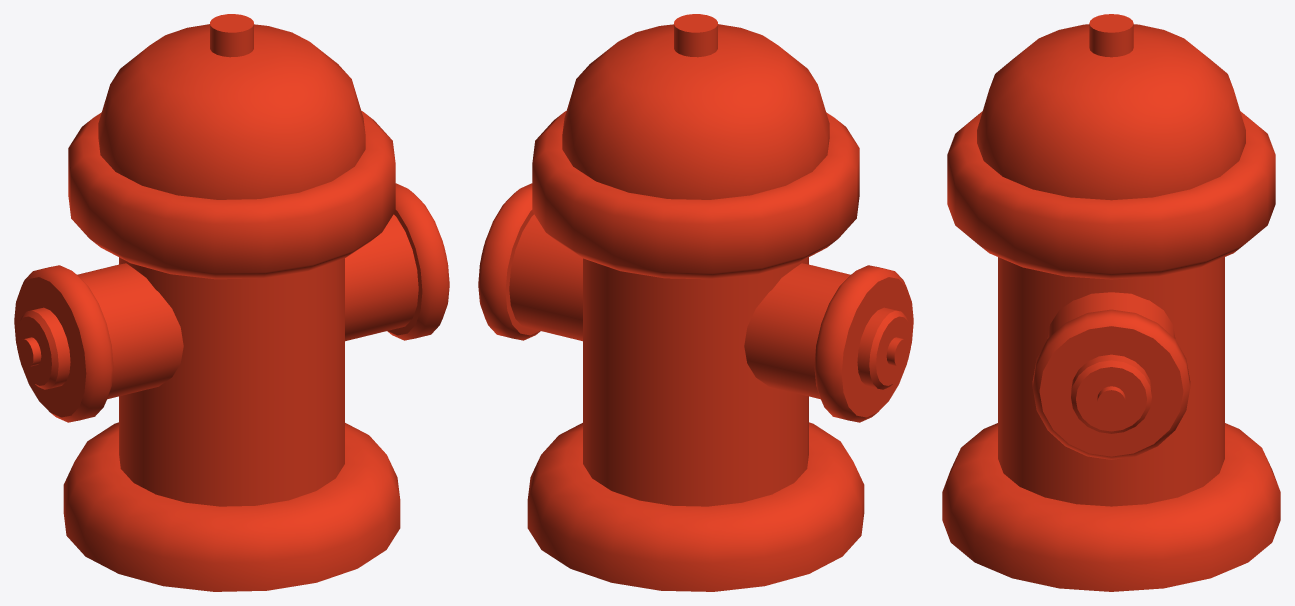
The model's file is hydrant_001.glb.
3 views of the same model, side by side, from view 1: azimuth 30°, elevation 25°; view 2: azimuth 150°, elevation 25°; view 3: azimuth 270°, elevation 25° (orthographic).
Parts seen in each view (by area): view 1: hydrant.001; view 2: hydrant.001; view 3: hydrant.001.
Part boxes in pixels (box(x1,y1,x2,y2)): hydrant.001: box(14, 14, 449, 591); hydrant.001: box(478, 14, 913, 591); hydrant.001: box(942, 14, 1280, 591).
Size of the model in its own units: 0.8494 by 0.9818 by 0.6053.
